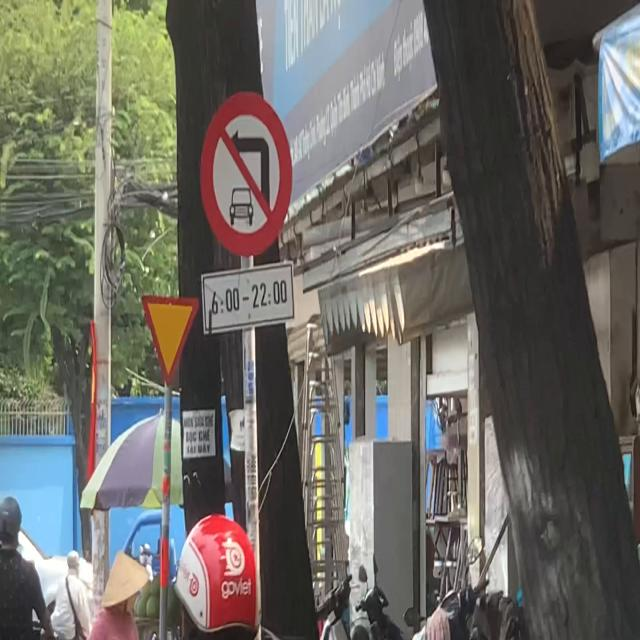Cam re trai: (200, 94, 292, 257)
Giao voi duong uu tien: (140, 294, 202, 388)
